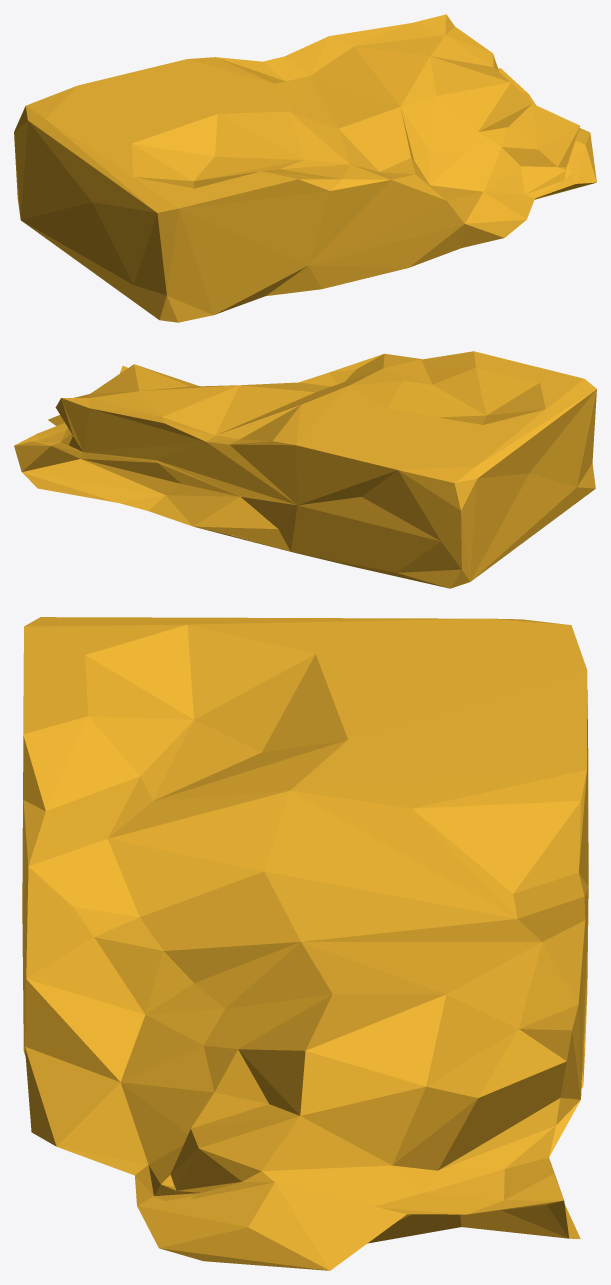
The model's file is broken gold bar .glb.
3 views of the same model, one above another, from view 1: azimuth 30°, elevation 25°; view 2: azimuth 150°, elevation 25°; view 3: azimuth 270°, elevation 25° (orthographic). The views are drawn at different scales.
Parts seen in each view (by area): view 1: Cube.001; view 2: Cube.001; view 3: Cube.001.
Part boxes in pixels (left/top/right/bottom): Cube.001: left=14, top=14, right=596, bottom=322; Cube.001: left=14, top=351, right=596, bottom=588; Cube.001: left=22, top=617, right=588, bottom=1270.
Size of the model in its own units: 0.1144 by 0.0255 by 0.0587.
